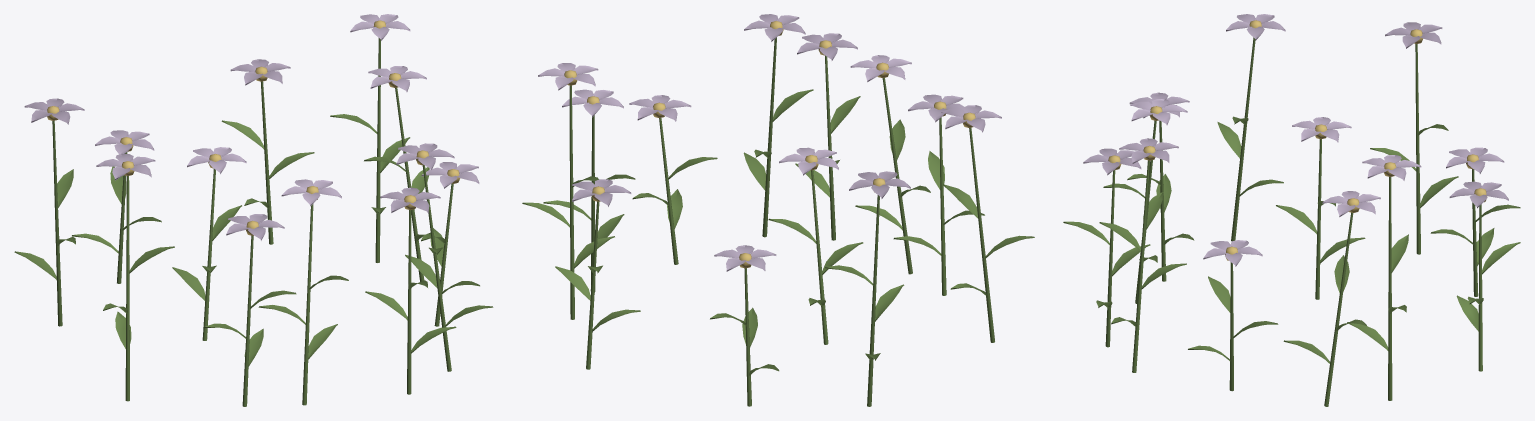
Rendered from wildflower-clump.gltf.
3 renders of one model, left to right at view 1: azimuth 30°, elevation 25°; view 2: azimuth 150°, elevation 25°; view 3: azimuth 270°, elevation 25°, orthographic. The views are drawn at different scales.
Parts seen in each view (by area): view 1: wildflower-clump; view 2: wildflower-clump; view 3: wildflower-clump.
Part boxes in pixels (x1=…): wildflower-clump: x1=14, y1=14, x2=493, y2=406; wildflower-clump: x1=522, y1=14, x2=1034, y2=406; wildflower-clump: x1=1063, y1=14, x2=1520, y2=406.
Bounding box in the file's own units: 0.8069 × 0.4617 × 0.8013.
